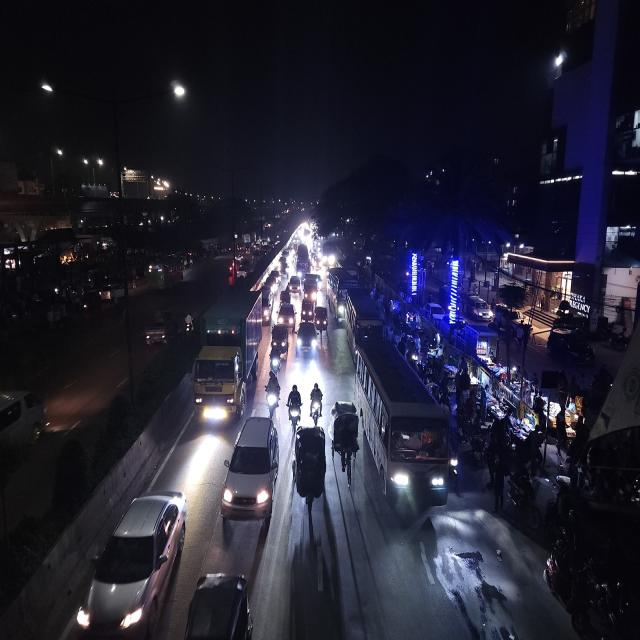bus: (351, 335, 454, 524), (344, 288, 384, 346), (326, 266, 358, 321), (152, 256, 184, 292)
car: (77, 486, 189, 636), (220, 414, 282, 525), (0, 385, 52, 463), (142, 310, 172, 351), (459, 292, 493, 324), (295, 319, 317, 363), (426, 301, 448, 329), (100, 282, 125, 304), (277, 301, 296, 329), (304, 272, 320, 302), (288, 274, 302, 297), (278, 253, 292, 274), (269, 267, 283, 285), (238, 259, 248, 278)
cng: (185, 567, 253, 639), (291, 423, 328, 513), (270, 322, 290, 362), (314, 303, 330, 338), (301, 297, 313, 324)
motorcycle: (264, 367, 282, 415), (288, 382, 302, 428), (308, 380, 322, 424), (182, 310, 196, 340)
pickup_van: (331, 398, 362, 484)
truck: (191, 289, 263, 427), (326, 267, 352, 319), (295, 244, 311, 276)
